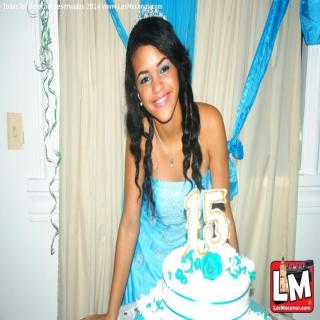Cake: (129, 186, 275, 320)
